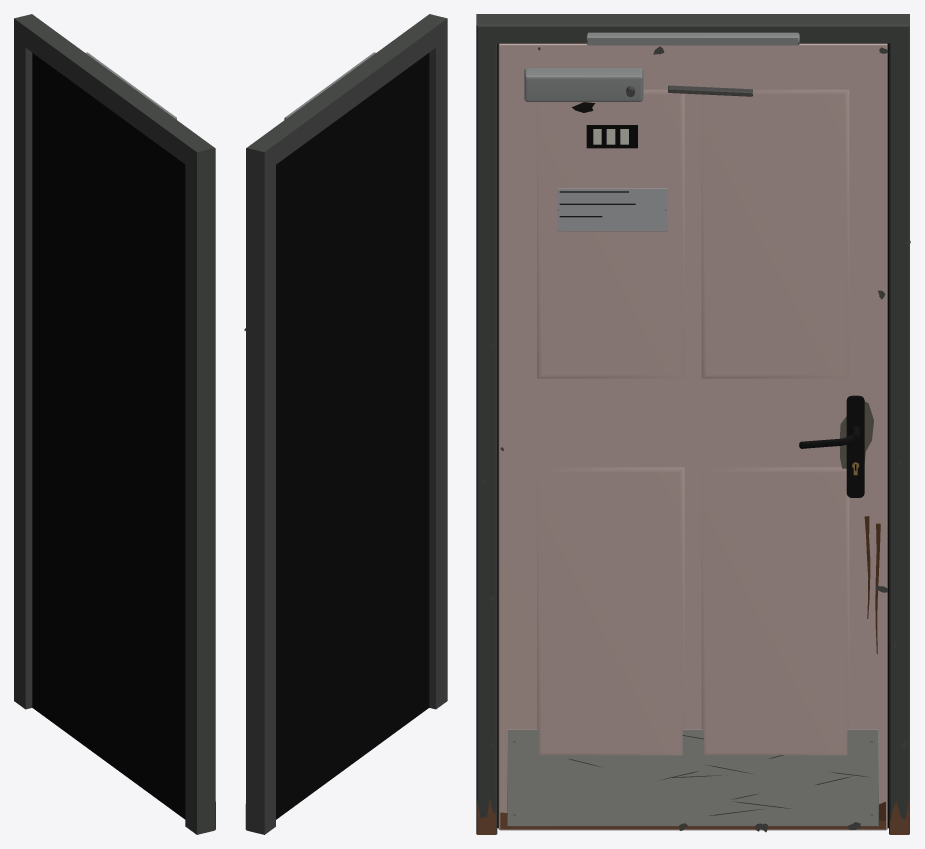
File: door_steel_grey.glb
3 renders of one model, left to right at view 1: azimuth 30°, elevation 25°; view 2: azimuth 150°, elevation 25°; view 3: azimuth 270°, elevation 25°, orthographic. The views are drawn at different scales.
Visible parts, largest first — view 1: tuer_grey1, tuer_grey0; view 2: tuer_grey1, tuer_grey0; view 3: tuer_grey2, tuer_grey0, tuer_grey10, tuer_grey7, tuer_grey12, tuer_grey1, tuer_grey15, tuer_grey3, tuer_grey8, tuer_grey16.
Part boxes in pixels (<box>): tuer_grey1: <box>32,53,185,819</box>; tuer_grey0: <box>14,14,215,834</box>; tuer_grey1: <box>276,53,429,819</box>; tuer_grey0: <box>246,14,447,834</box>; tuer_grey2: <box>498,43,887,830</box>; tuer_grey0: <box>476,14,909,834</box>; tuer_grey10: <box>507,729,878,826</box>; tuer_grey7: <box>524,32,799,101</box>; tuer_grey12: <box>557,188,667,231</box>; tuer_grey1: <box>497,43,888,828</box>; tuer_grey15: <box>477,799,908,834</box>; tuer_grey3: <box>799,395,864,497</box>; tuer_grey8: <box>481,46,910,832</box>; tuer_grey16: <box>864,516,885,820</box>.
Bounding box in the file's own units: 0.131 × 2.1 × 1.02.
